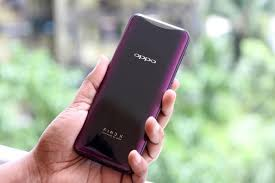oppo: (70, 12, 190, 168)
